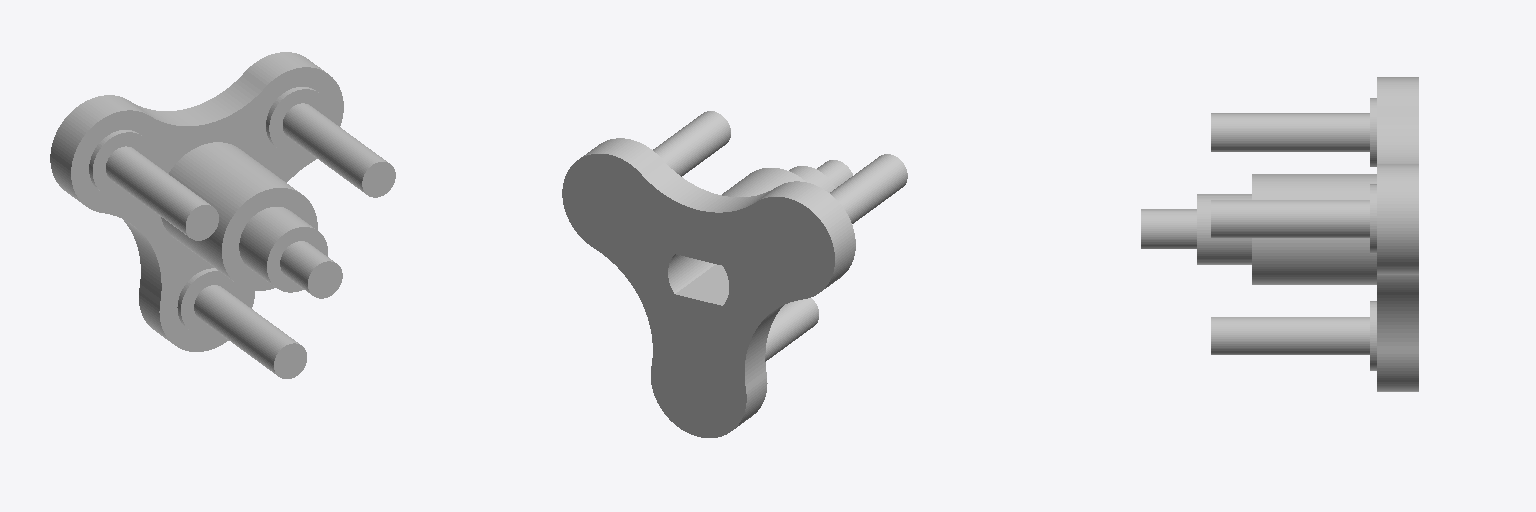
The model's file is Carrier.obj.
The picture shows the model from 3 angles: view 1: azimuth 30°, elevation 25°; view 2: azimuth 150°, elevation 25°; view 3: azimuth 270°, elevation 25°; orthographic projection.
Parts seen in each view (by area): view 1: Body1; view 2: Body1; view 3: Body1.
Part boxes in pixels (bbox=[...]): Body1: bbox=[50, 52, 395, 378]; Body1: bbox=[562, 111, 907, 437]; Body1: bbox=[1141, 77, 1418, 391].
Size of the model in its own units: 22.72 by 20.75 by 20.